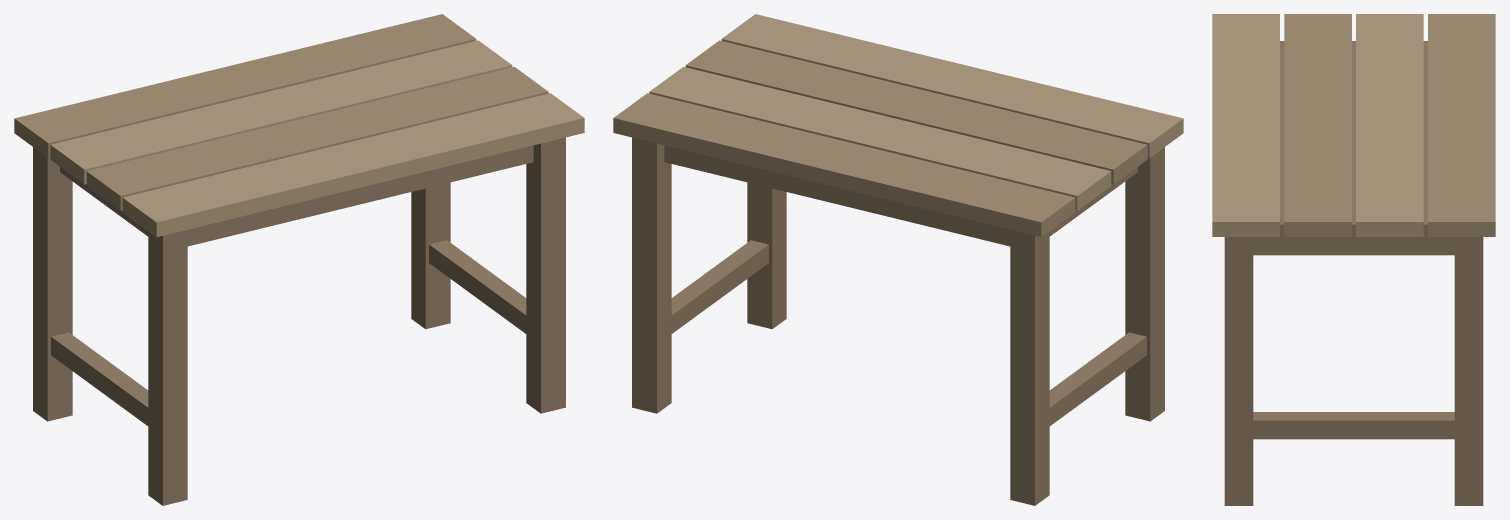
The model's file is cabin_table.glb.
3 views of the same model, side by side, from view 1: azimuth 30°, elevation 25°; view 2: azimuth 150°, elevation 25°; view 3: azimuth 270°, elevation 25° (orthographic).
Parts seen in each view (by area): view 1: plank0, plank3, plank2, plank1, leg-1-1, leg1-1, leg-11, apron, leg11, stretcher-1, stretcher1; view 2: plank3, plank0, plank1, plank2, leg-11, leg11, leg-1-1, apron, leg1-1, stretcher-1, stretcher1; view 3: plank0, plank1, plank2, plank3, leg1-1, leg11, apron, stretcher1, stretcher-1.
Boxes of the visible parts, box(x1,y1,x2,y2) form: plank0: box(122, 93, 584, 237); plank3: box(14, 14, 476, 157); plank2: box(50, 40, 512, 184); plank1: box(86, 67, 548, 210); leg-1-1: box(148, 230, 187, 505); leg1-1: box(526, 137, 565, 413); leg-11: box(33, 147, 72, 421); apron: box(60, 145, 533, 246); leg11: box(411, 182, 450, 329); stretcher-1: box(51, 332, 148, 425); stretcher1: box(429, 240, 526, 333); plank3: box(613, 93, 1075, 237); plank0: box(721, 14, 1183, 157); plank1: box(685, 40, 1147, 184); plank2: box(649, 67, 1111, 210); leg-11: box(1010, 230, 1049, 505); leg11: box(632, 137, 671, 413); leg-1-1: box(1125, 147, 1164, 421); apron: box(664, 145, 1137, 246); leg1-1: box(747, 182, 786, 329); stretcher-1: box(1049, 332, 1146, 425); stretcher1: box(671, 240, 768, 333); plank0: box(1212, 14, 1279, 236); plank1: box(1284, 14, 1351, 236); plank2: box(1356, 14, 1423, 236); plank3: box(1428, 14, 1495, 236); leg1-1: box(1224, 237, 1253, 505); leg11: box(1454, 237, 1483, 505); apron: box(1253, 41, 1454, 254); stretcher1: box(1253, 412, 1454, 439); stretcher-1: box(1253, 254, 1454, 255).
Size of the model in its own units: 1.2 by 0.78 by 0.69.
